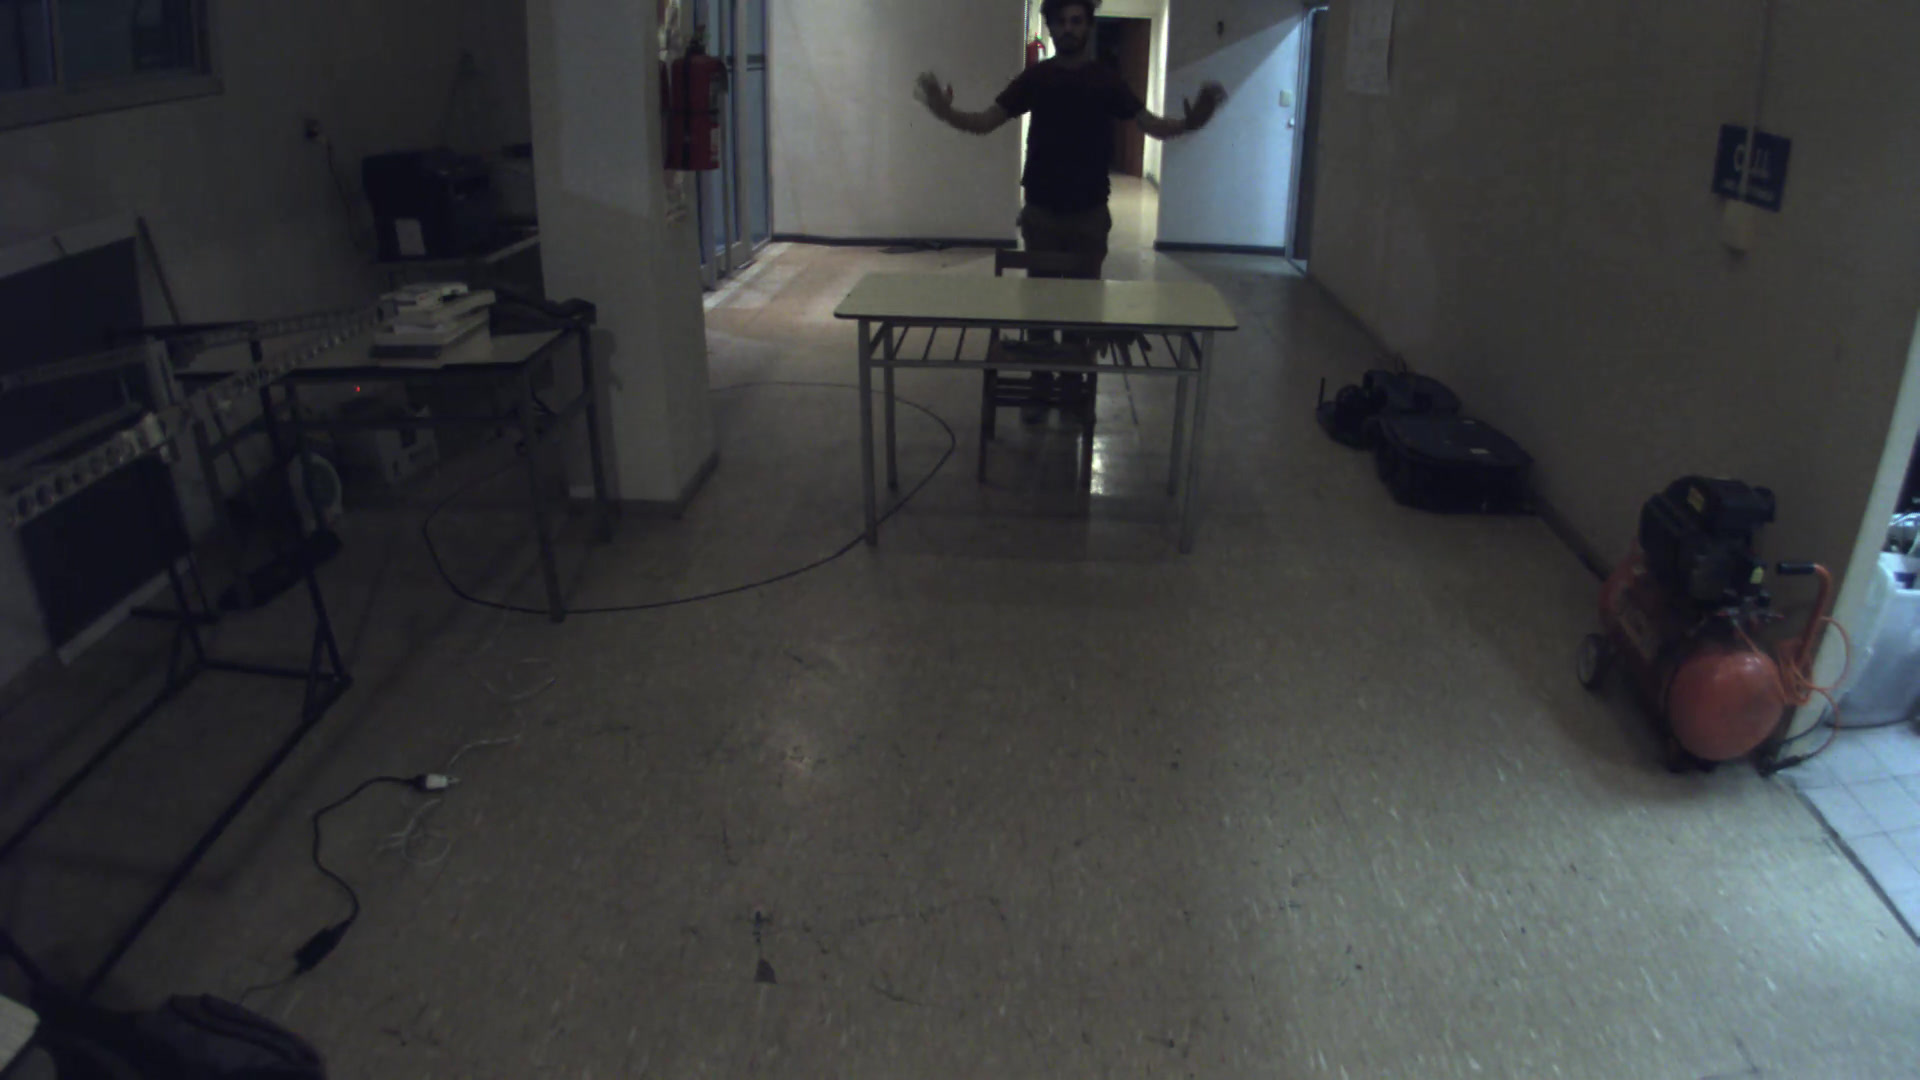hand: (1178, 70, 1232, 133), (907, 73, 967, 128)
